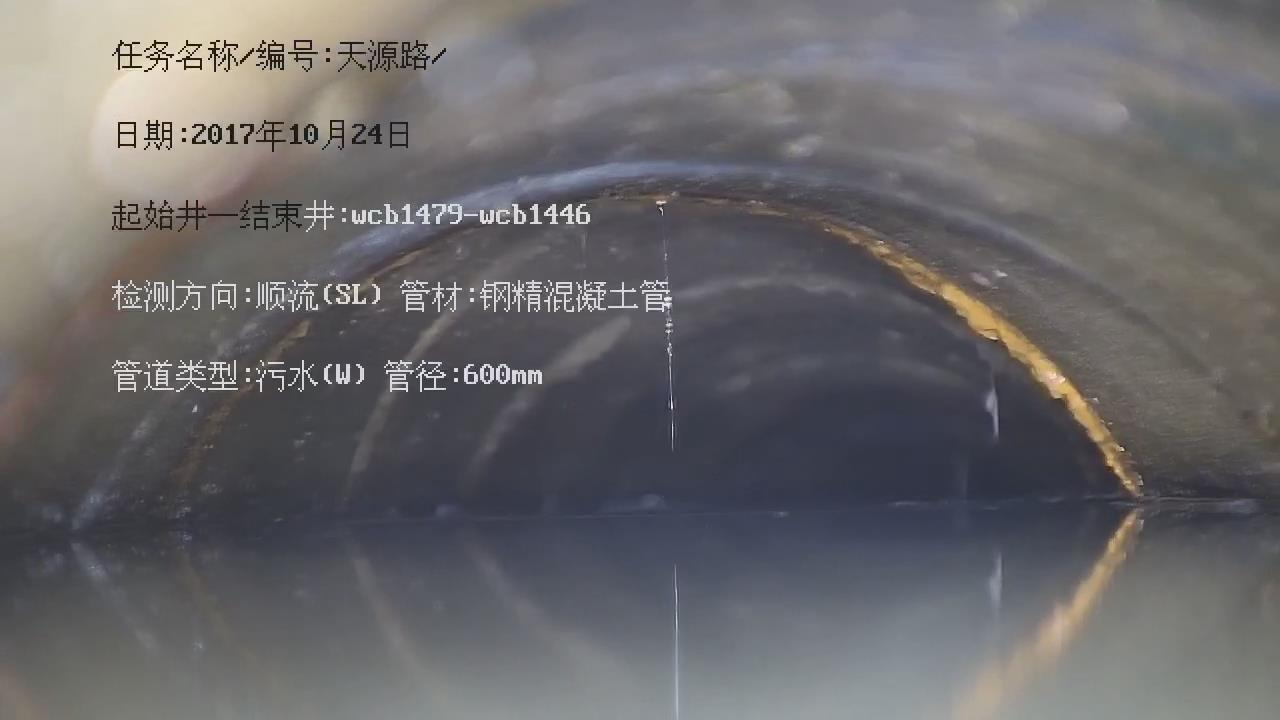SL: (638, 192, 721, 462)
